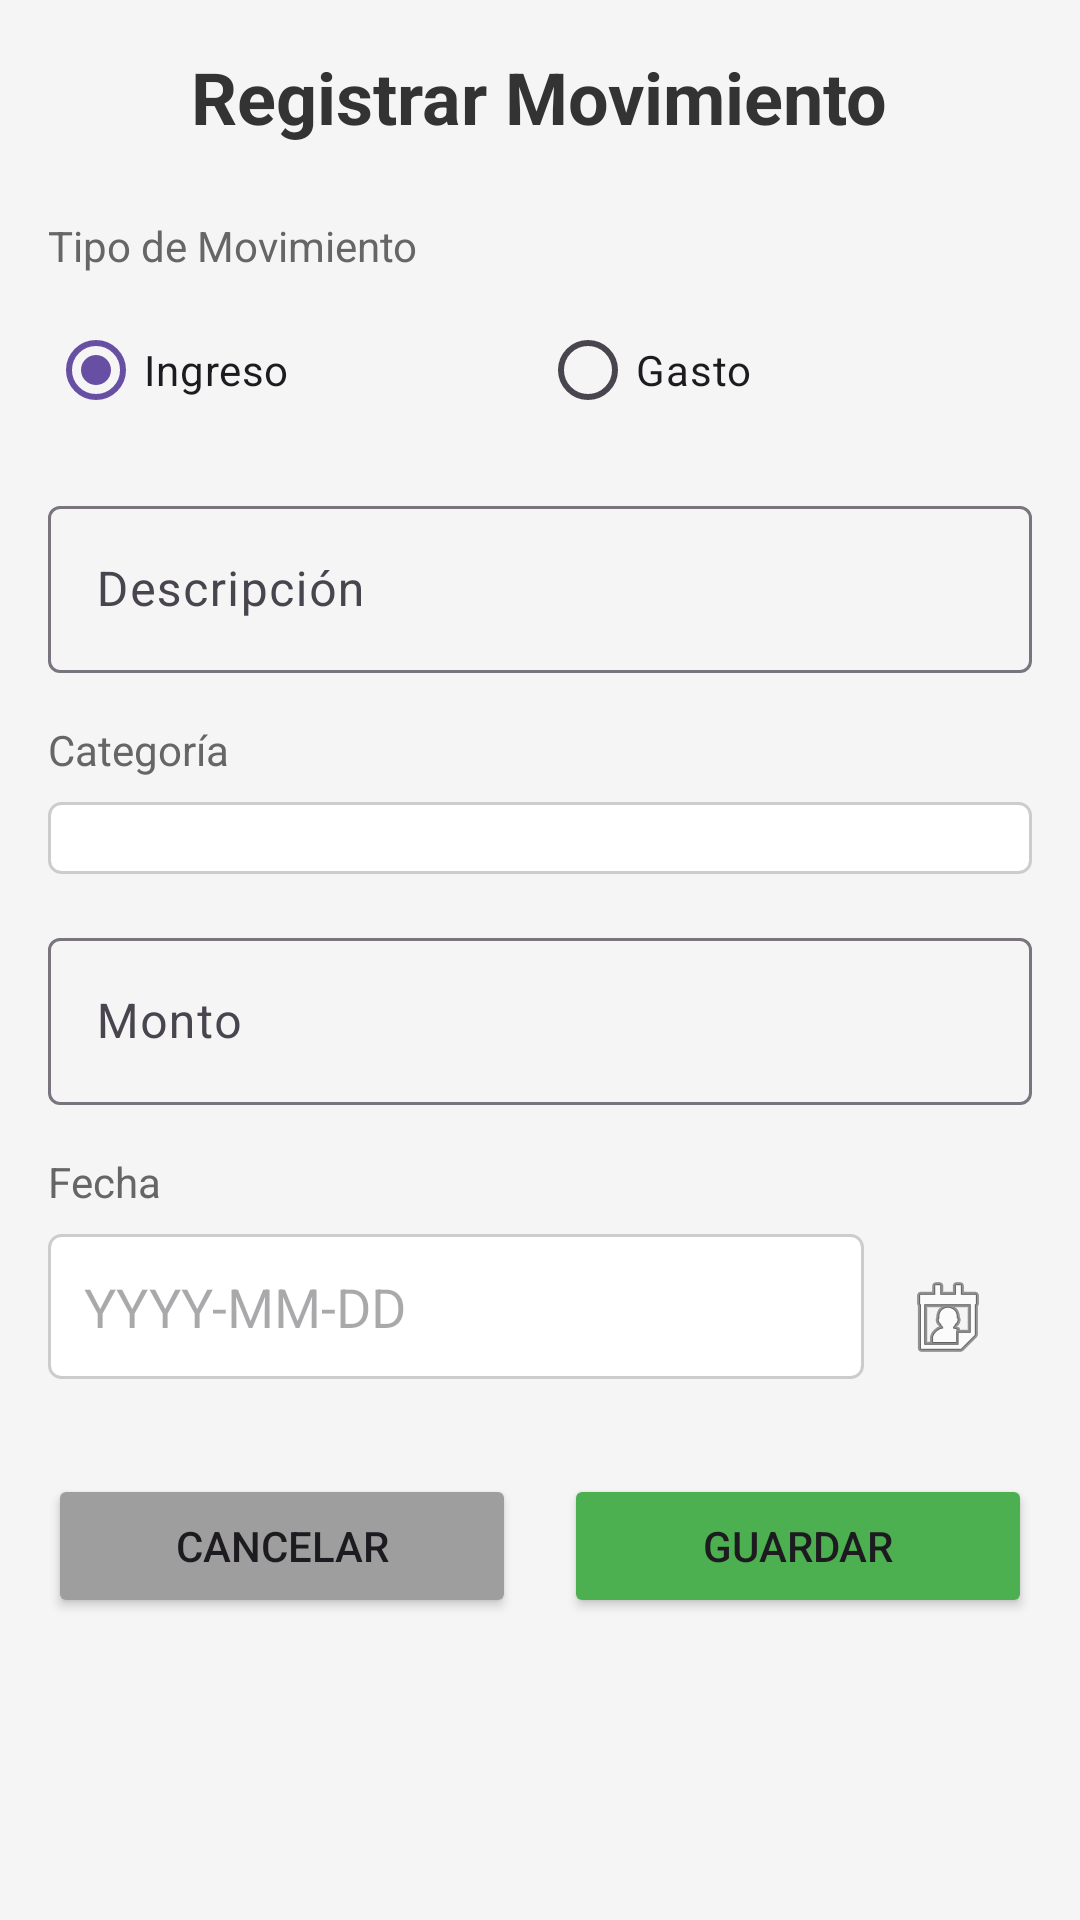

Locate icon controls on the screen. Image size 1080*1920, boxes as (x1, y1, x2, y2).
Seleccionar fecha: (917, 1282, 979, 1352)
